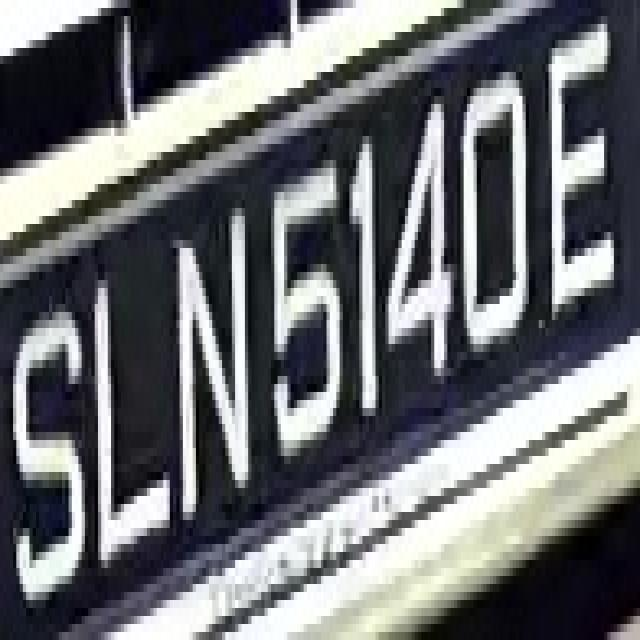0: (464, 48, 529, 384)
1: (356, 120, 388, 448)
4: (379, 88, 460, 416)
5: (268, 152, 346, 456)
E: (536, 40, 624, 336)
L: (88, 256, 183, 592)
N: (183, 184, 261, 536)
S: (6, 296, 85, 616)
